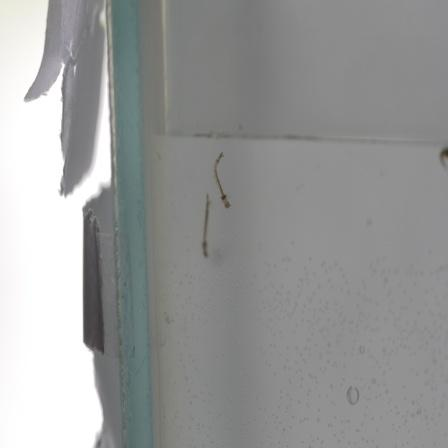Jentik-Nyamuk: (212, 146, 238, 211), (196, 189, 212, 262)
